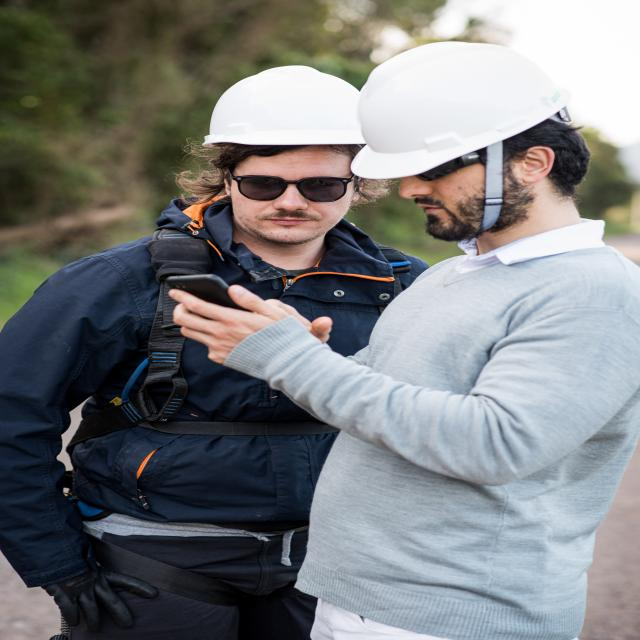capacete: (349, 40, 577, 179), (199, 64, 371, 149)
corda de vida: (61, 221, 414, 630)
luva: (39, 561, 162, 635)
